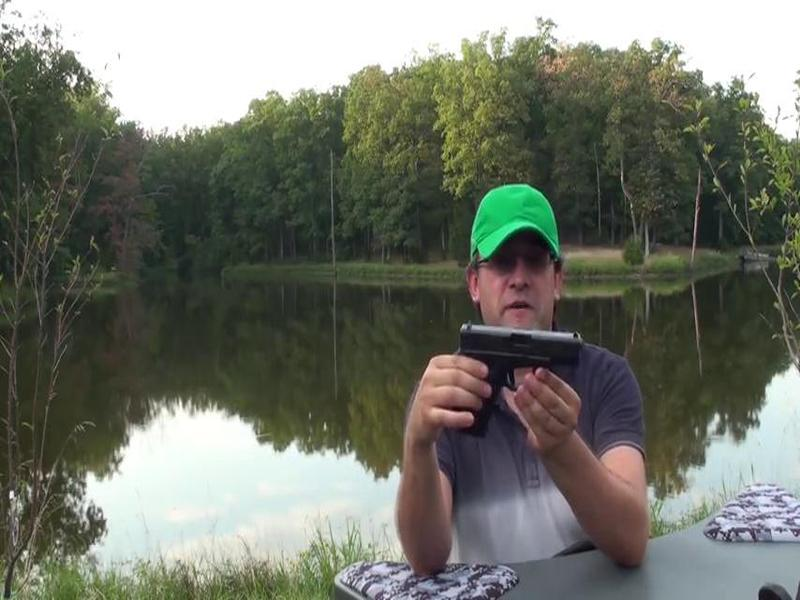Pistola: (421, 312, 598, 460)
